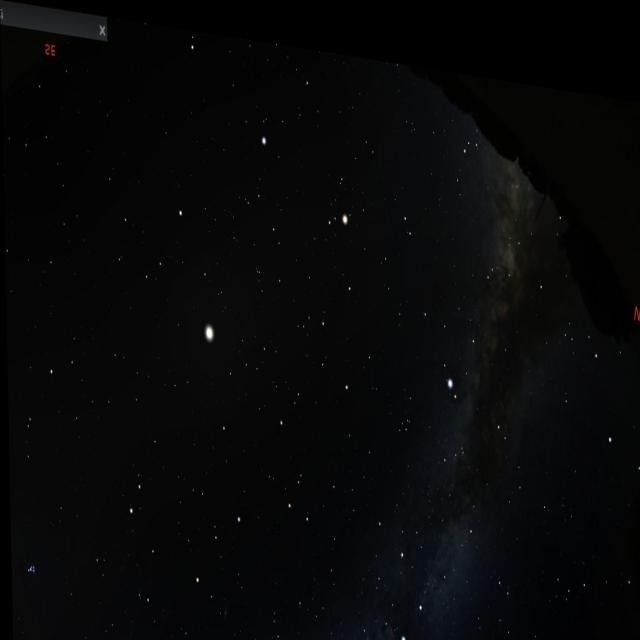aquila: (422, 230, 510, 398)
cygnus: (388, 488, 479, 640)
lyra: (484, 545, 519, 640)
pleiades: (16, 550, 43, 589)
